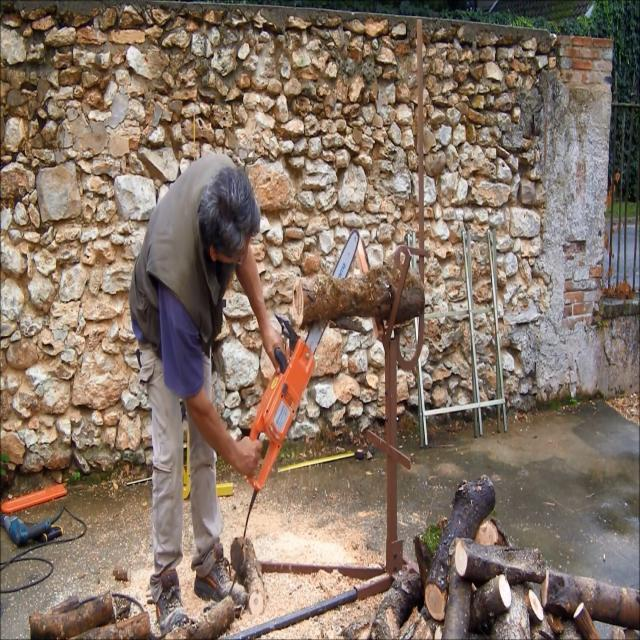Chainsaw: (224, 216, 378, 501)
